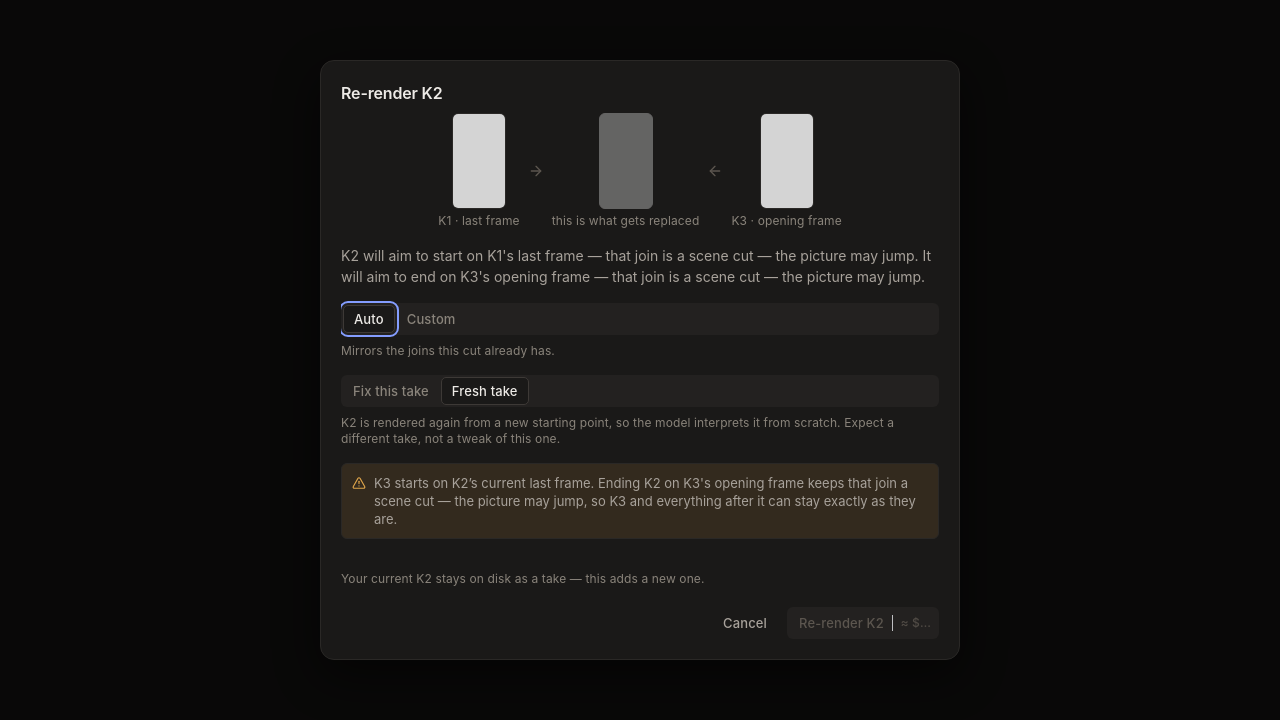
SegmentRerenderDialog — fix this take vs fresh take › never sells a fix as the cheaper option
Click the radio button labelled "Fix this take": (391, 391) left=343, top=377, right=439, bottom=405
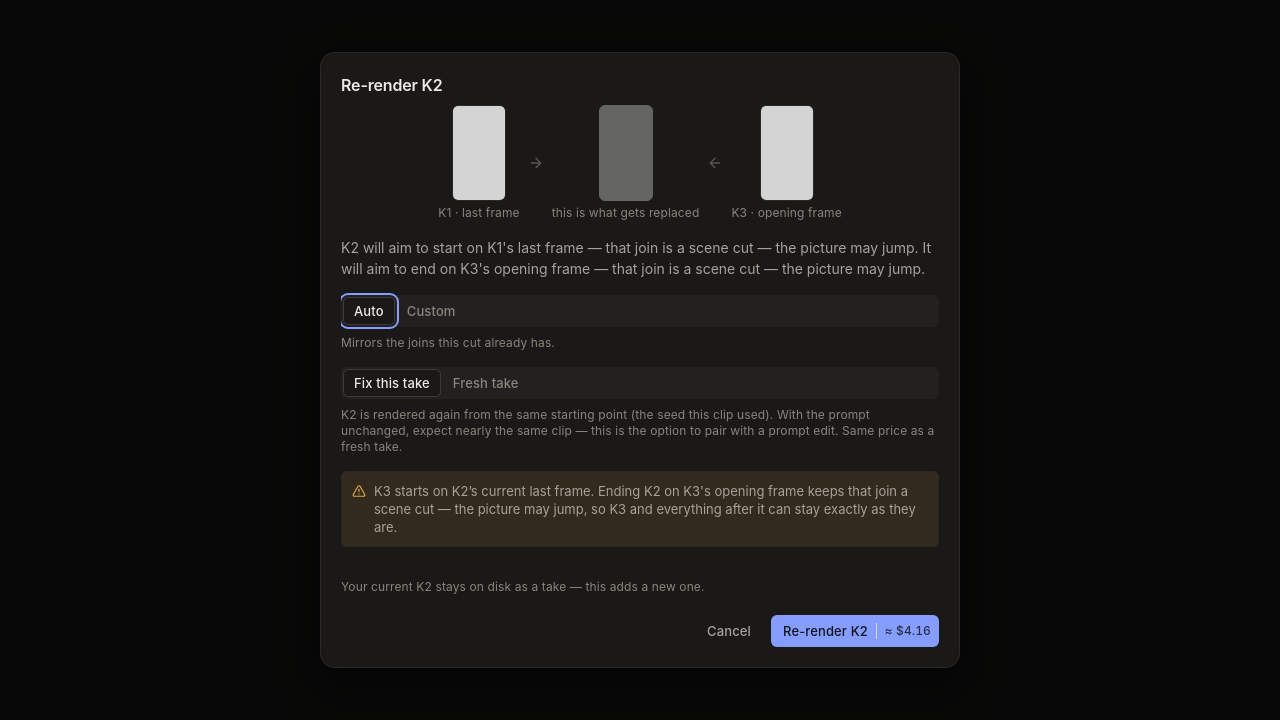
Check: the element with test id "regen-mode" does not show "$"
Check: the element with test id "regen-mode" shows "Same price as a fresh take.", box left=341, top=407, right=934, bottom=454
